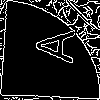A: (25, 25, 75, 64)
